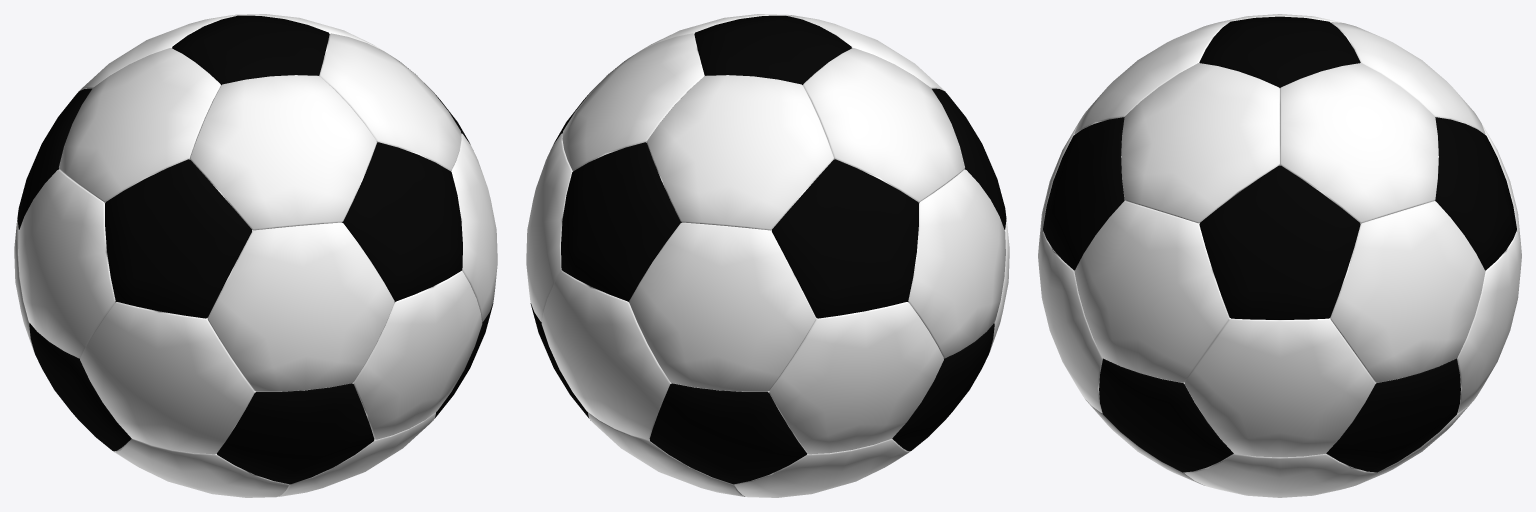
File: soccerball.obj
The picture shows the model from 3 angles, left to right: view 1: azimuth 30°, elevation 25°; view 2: azimuth 150°, elevation 25°; view 3: azimuth 270°, elevation 25°; orthographic projection.
Visible parts, largest first — view 1: ICO球; view 2: ICO球; view 3: ICO球.
Part boxes in pixels (x1,y1,x2,y2): ICO球: (14, 14, 497, 497); ICO球: (526, 14, 1009, 497); ICO球: (1038, 14, 1521, 497).
Bounding box in the file's own units: 1.26 × 1.26 × 1.26.
